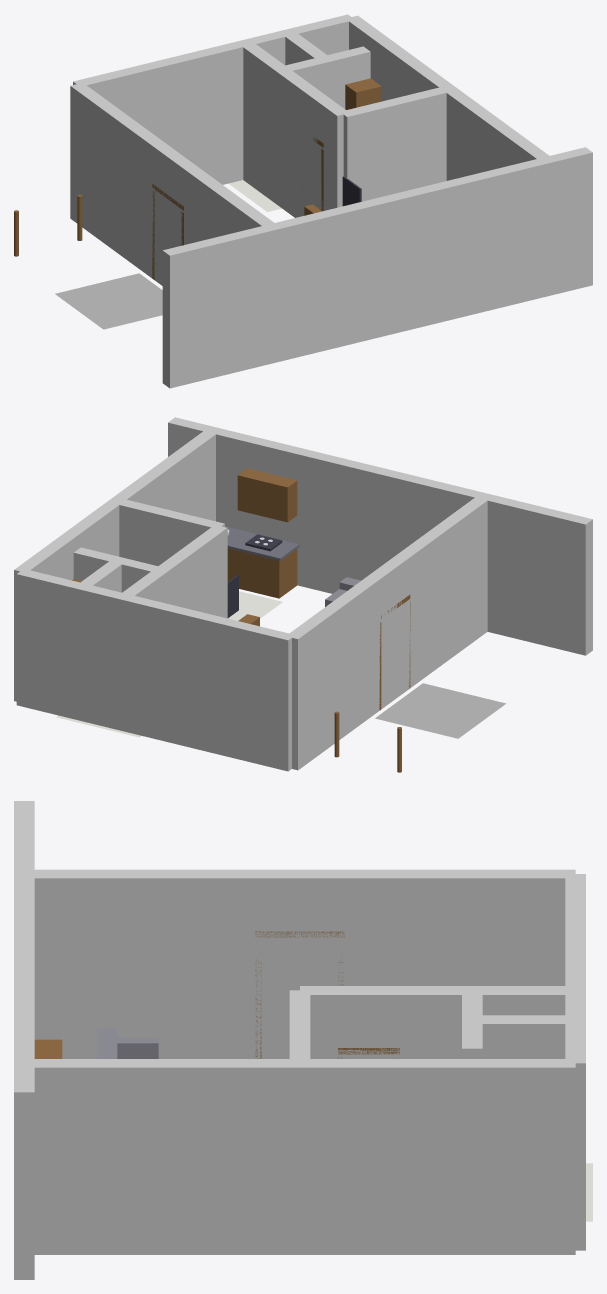
Rendered from 1bhk.glb.
The picture shows the model from 3 angles, top to bottom: view 1: azimuth 30°, elevation 25°; view 2: azimuth 150°, elevation 25°; view 3: azimuth 270°, elevation 25°; orthographic projection. The views are drawn at different scales.
Parts seen in each view (by area): view 1: Wall_Back, Wall_Parking_Hall, Wall_Hall_Rooms_Top, Wall_Front_Left, Wall_Kitchen_Bedroom, Wall_Right, Floor_Parking, Wall_Bathroom_Back, Wall_Front_Right, Wardrobe_Body, Wall_Bathroom_Left, Floor_Bathroom; view 2: Wall_Back, Wall_Parking_Hall, Wall_Front_Left, Wall_Front_Right, Wall_Right, Wall_Hall_Rooms_Top, Wall_Kitchen_Bedroom, Floor_Parking, Cabinet_Upper, Kitchen_Counter_Base2, Wall_Bathroom_Back, Wall_Bathroom_Left (+2 smaller); view 3: Wall_Right, Wall_Parking_Hall, Wall_Hall_Rooms_Top, Wall_Back, Wall_Bathroom_Left, Wall_Front_Right, Wall_Front_Left, Wall_Kitchen_Bedroom, Wall_Bathroom_Back, Sofa_Arm_L, Sofa_Back.
Part boxes in pixels (box(x1,y1,x2,y2)): Wall_Back: box(162, 147, 592, 388); Wall_Parking_Hall: box(70, 84, 273, 285); Wall_Hall_Rooms_Top: box(241, 42, 349, 217); Wall_Front_Left: box(73, 40, 248, 184); Wall_Kitchen_Bedroom: box(340, 86, 449, 201); Wall_Right: box(348, 15, 552, 180); Floor_Parking: box(55, 273, 162, 329); Wall_Bathroom_Back: box(280, 46, 370, 108); Wall_Front_Right: box(242, 14, 354, 65); Wardrobe_Body: box(345, 78, 381, 109); Wall_Bathroom_Left: box(282, 32, 327, 65); Floor_Bathroom: box(228, 180, 281, 211); Wall_Back: box(168, 417, 592, 655); Wall_Parking_Hall: box(286, 497, 490, 770); Wall_Front_Left: box(121, 594, 294, 771); Wall_Front_Right: box(16, 569, 127, 730); Wall_Right: box(14, 429, 218, 701); Wall_Hall_Rooms_Top: box(122, 526, 227, 618); Wall_Kitchen_Bedroom: box(114, 498, 224, 565); Floor_Parking: box(375, 683, 506, 738); Cabinet_Upper: box(237, 468, 297, 522); Kitchen_Counter_Base2: box(229, 549, 297, 598); Wall_Bathroom_Back: box(73, 547, 164, 592); Wall_Bathroom_Left: box(77, 559, 124, 592); Wall_Right: box(24, 1059, 575, 1254); Wall_Parking_Hall: box(24, 869, 575, 1058); Wall_Hall_Rooms_Top: box(300, 986, 574, 1058); Wall_Back: box(14, 801, 34, 1279); Wall_Bathroom_Left: box(472, 1015, 575, 1058); Wall_Front_Right: box(565, 990, 585, 1250); Wall_Front_Left: box(565, 874, 585, 990); Wall_Kitchen_Bedroom: box(289, 990, 310, 1063); Wall_Bathroom_Back: box(462, 990, 482, 1058); Sofa_Arm_L: box(117, 1037, 158, 1058); Sofa_Back: box(96, 1028, 117, 1058).
Bounding box in the file's own units: 10 × 3 × 8.4.
